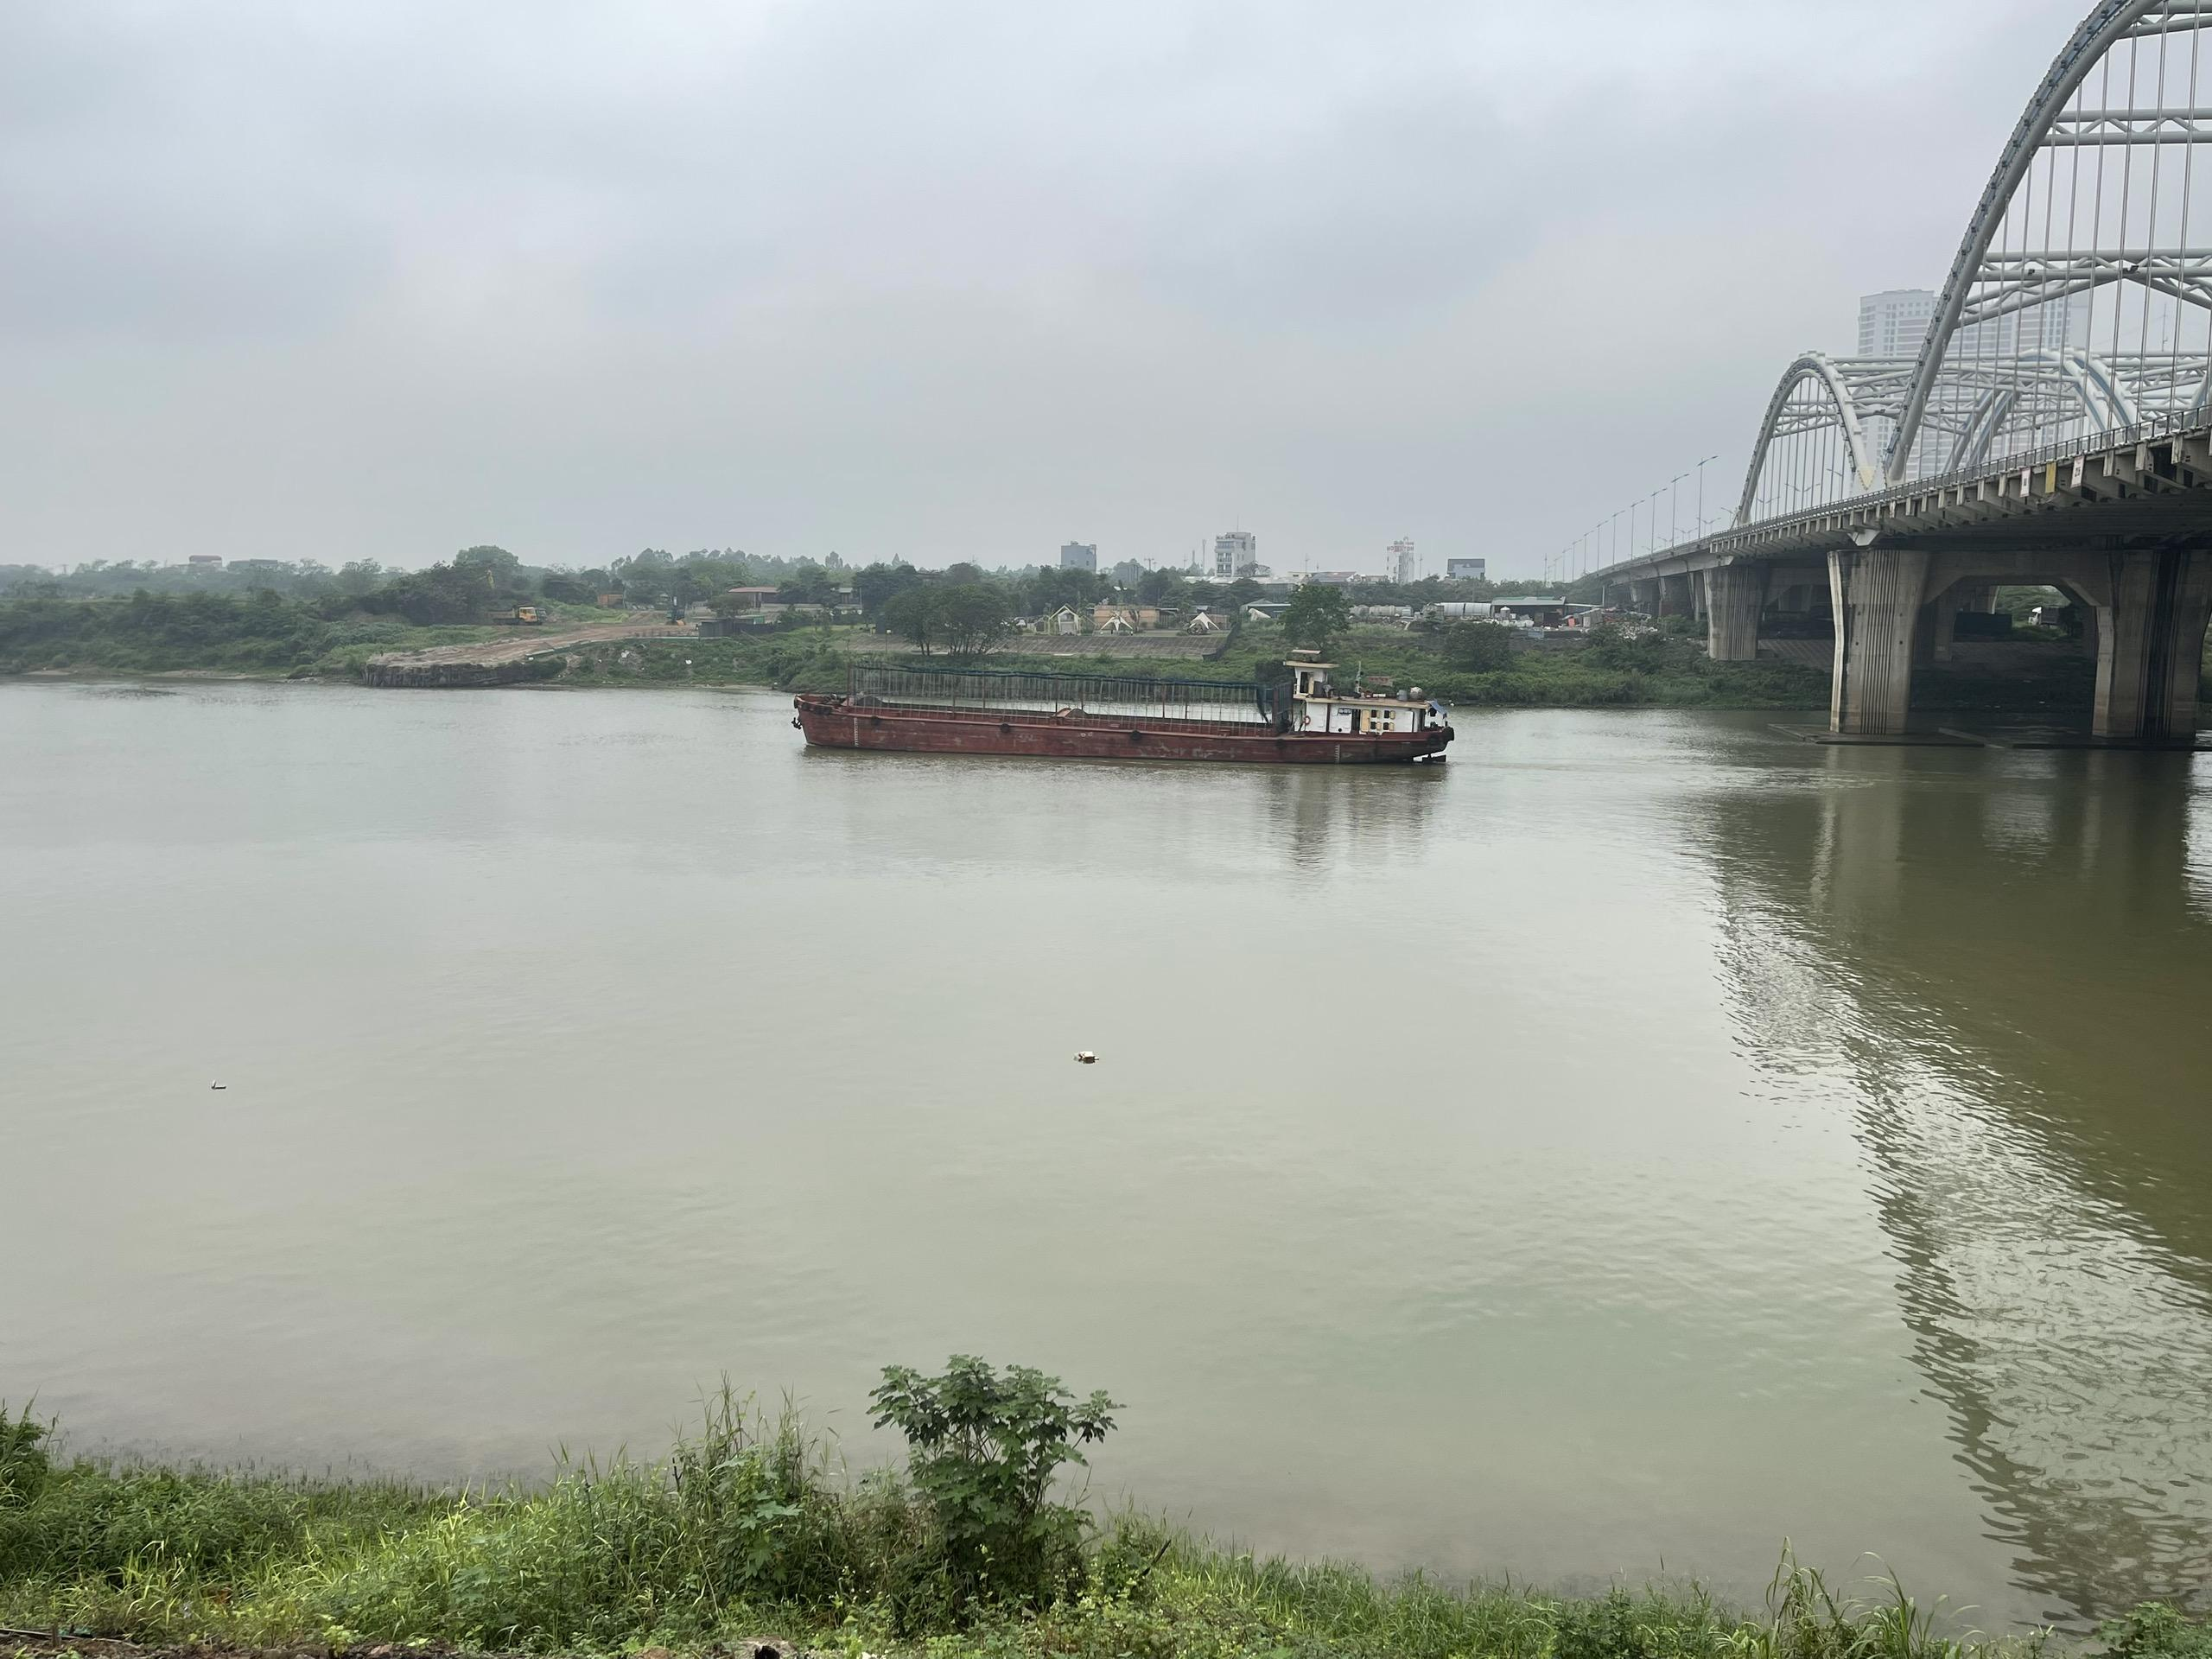Ship: (786, 660, 1477, 777)
